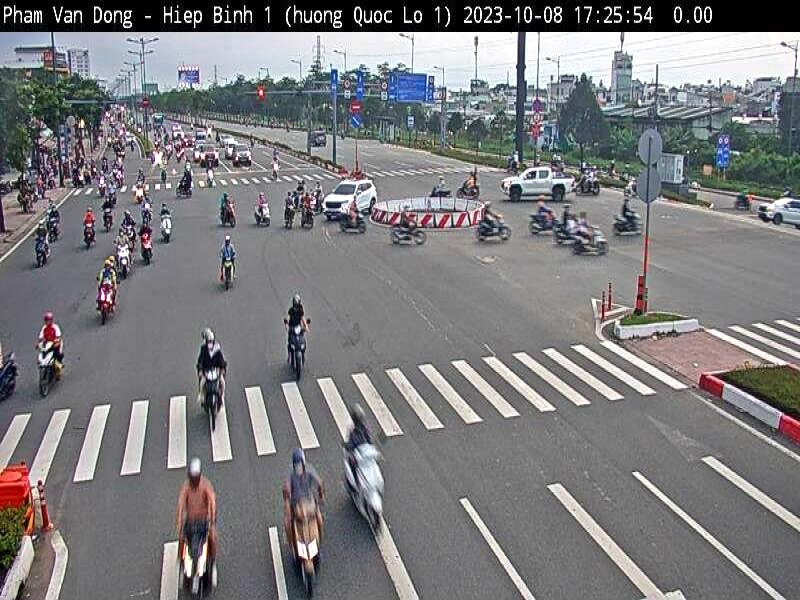car: (502, 168, 578, 202), (321, 179, 371, 218), (760, 199, 800, 226), (232, 143, 252, 168), (200, 144, 219, 167)
motorcycle: (476, 217, 514, 245), (388, 228, 426, 248)
